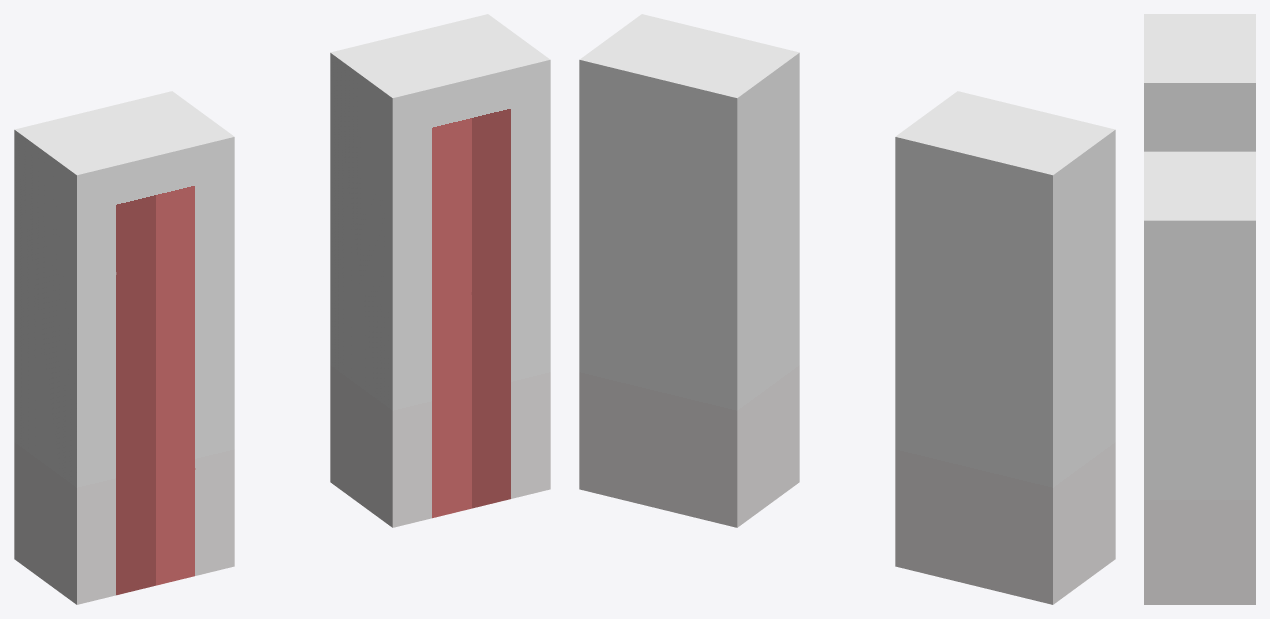
Rendered from Accessories017.fbx.
3 renders of one model, left to right at view 1: azimuth 30°, elevation 25°; view 2: azimuth 150°, elevation 25°; view 3: azimuth 270°, elevation 25°, orthographic. The views are drawn at different scales.
Visible parts, largest first — view 1: Accessories017; view 2: Accessories017; view 3: Accessories017.
Part boxes in pixels (left/top/right/bottom): Accessories017: left=14, top=14, right=550, bottom=604; Accessories017: left=579, top=14, right=1115, bottom=604; Accessories017: left=1144, top=14, right=1255, bottom=604.
Size of the model in its own units: 12.69 by 11 by 2.9.
